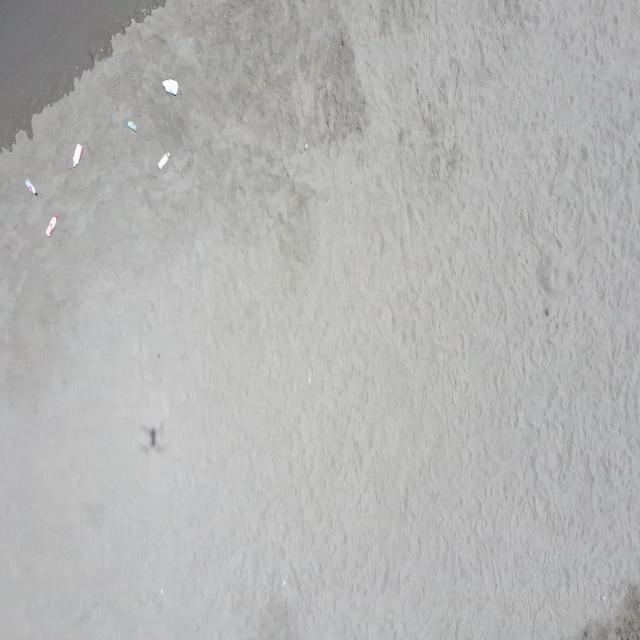Garbage: (163, 80, 178, 95), (45, 215, 55, 236), (156, 152, 168, 168), (72, 143, 80, 166), (24, 179, 35, 195), (125, 120, 136, 131), (303, 141, 308, 148)
